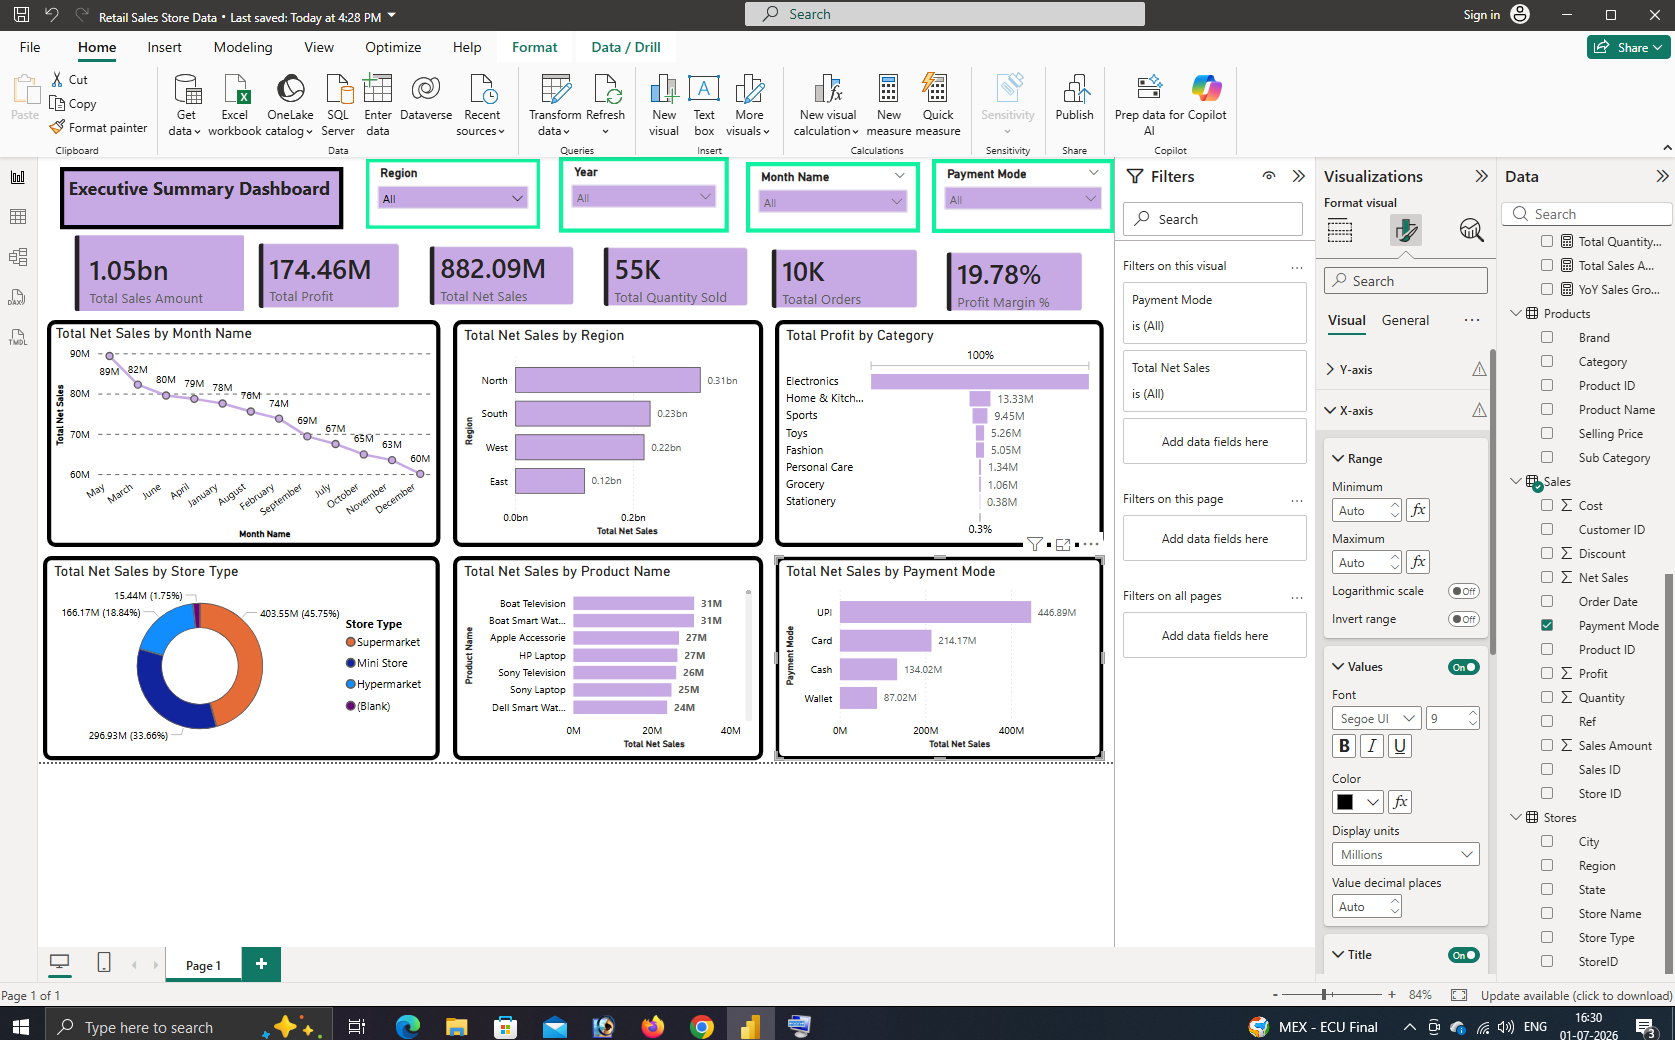

What the dashboard file says about the page in this screenshot:
{"tool":"powerbi","page":{"name":"Page 1","canvas":[1280,720],"ordinal":0},"visuals":[{"type":"cardVisual","fields":{"Data":["Measures (3).Total Sales Amount"]},"box":[26.2,76.1,237.9,124.9],"z":0},{"type":"cardVisual","fields":{"Data":["Measures (3).Toatal Orders"]},"box":[855.3,92.8,208.2,104.7],"z":1000},{"type":"cardVisual","fields":{"Data":["Measures (3).Profit Margin %"]},"box":[1063.5,96.4,196.3,104.7],"z":2000},{"type":"cardVisual","fields":{"Data":["Measures (3).Total Profit"]},"box":[245.1,85.7,202.2,111.8],"z":3000},{"type":"cardVisual","fields":{"Data":["Measures (3).Total Net Sales"]},"box":[448.5,89.2,207,104.7],"z":4000},{"type":"cardVisual","fields":{"Data":["Measures (3).Total Quantity Sold"]},"box":[655.5,90.4,207,104.7],"z":5000},{"type":"slicer","fields":{"Values":["Customers.Region"]},"box":[390.2,2.4,207,83.3],"z":5003},{"type":"slicer","fields":{"Values":["Data Table.Year"]},"box":[619.8,0,202.2,90.4],"z":5004},{"type":"slicer","fields":{"Values":["Data Table.Month Name"]},"box":[842.2,5.9,207,84.5],"z":5005},{"type":"slicer","fields":{"Values":["Sales.Payment Mode"]},"box":[1063.5,2.4,216.5,88],"z":5006},{"type":"textbox","box":[26.2,11.9,336.7,74],"z":5007},{"type":"lineChart","fields":{"Category":["Data Table.Month Name"],"Y":["Measures (3).Total Net Sales"]},"box":[10.7,193.9,467.5,270],"z":5008},{"type":"barChart","fields":{"Category":["Customers.Region"],"Y":["Measures (3).Total Net Sales"]},"box":[493.7,193.9,368.8,270],"z":5009},{"type":"funnel","fields":{"Category":["Products.Category"],"Y":["Measures (3).Total Profit"]},"box":[876.7,193.9,391.4,270],"z":5010},{"type":"donutChart","fields":{"Category":["Stores.Store Type"],"Y":["Measures (3).Total Net Sales"]},"box":[5.9,474.6,472.3,242.7],"z":5011},{"type":"barChart","fields":{"Y":["Measures (3).Total Net Sales"],"Category":["Products.Product Name"]},"box":[493.7,474.6,368.8,242.7],"z":5012},{"type":"barChart","fields":{"Y":["Measures (3).Total Net Sales"],"Category":["Sales.Payment Mode"]},"box":[876.7,474.6,391.4,242.7],"z":5013}]}

Visuals, with their boxes on the page's 1280x720 design canvas (x1, y1, x2, y2). These are canvas units, not pixel positions in the 1675x1040 screenshot, which may show the page scaled, cropped or inside an application window:
cardVisual - Measures (3).Total Sales Amount: bbox=[26, 76, 264, 201]
cardVisual - Measures (3).Toatal Orders: bbox=[855, 93, 1064, 198]
cardVisual - Measures (3).Profit Margin %: bbox=[1064, 96, 1260, 201]
cardVisual - Measures (3).Total Profit: bbox=[245, 86, 447, 198]
cardVisual - Measures (3).Total Net Sales: bbox=[448, 89, 656, 194]
cardVisual - Measures (3).Total Quantity Sold: bbox=[656, 90, 862, 195]
slicer - Customers.Region: bbox=[390, 2, 597, 86]
slicer - Data Table.Year: bbox=[620, 0, 822, 90]
slicer - Data Table.Month Name: bbox=[842, 6, 1049, 90]
slicer - Sales.Payment Mode: bbox=[1064, 2, 1280, 90]
textbox: bbox=[26, 12, 363, 86]
lineChart - Data Table.Month Name x Measures (3).Total Net Sales: bbox=[11, 194, 478, 464]
barChart - Customers.Region x Measures (3).Total Net Sales: bbox=[494, 194, 862, 464]
funnel - Products.Category x Measures (3).Total Profit: bbox=[877, 194, 1268, 464]
donutChart - Stores.Store Type x Measures (3).Total Net Sales: bbox=[6, 475, 478, 717]
barChart - Measures (3).Total Net Sales x Products.Product Name: bbox=[494, 475, 862, 717]
barChart - Measures (3).Total Net Sales x Sales.Payment Mode: bbox=[877, 475, 1268, 717]
